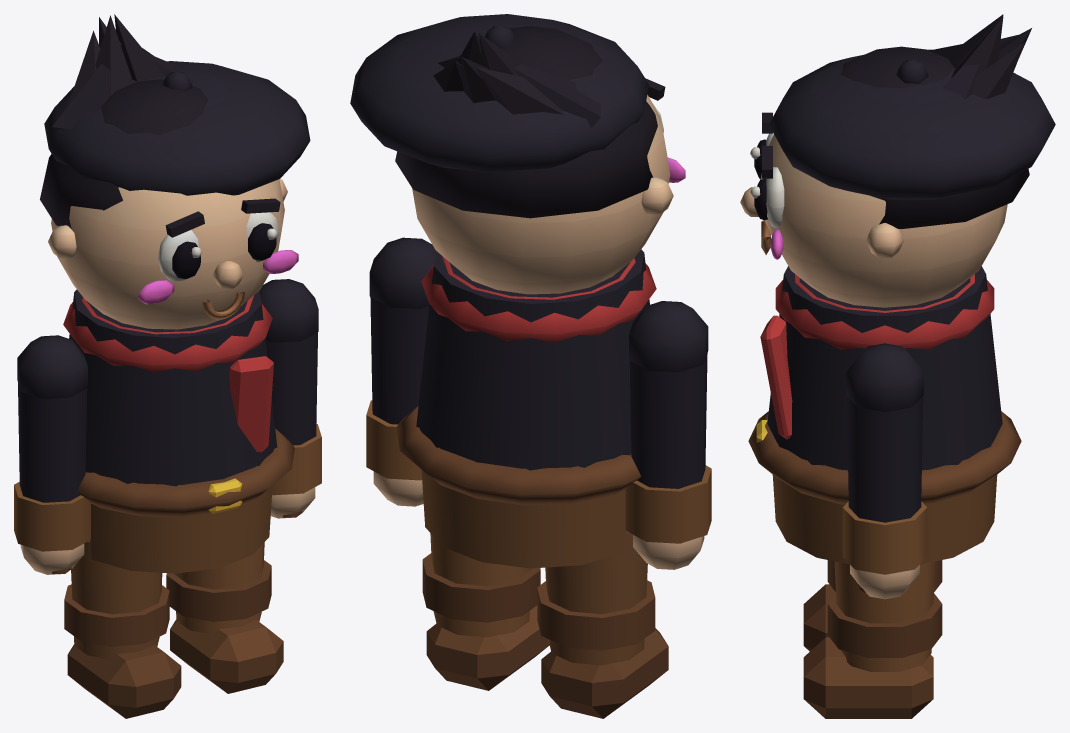
The model's file is hero_kip.glb.
The picture shows the model from 3 angles, left to right: view 1: azimuth 30°, elevation 25°; view 2: azimuth 150°, elevation 25°; view 3: azimuth 270°, elevation 25°; orthographic projection. The views are drawn at different scales.
Visible parts, largest first — view 1: body_t0_palette, arml_t0_palette, legl_t0_palette, legr_t0_palette, armr_t0_palette; view 2: body_t0_palette, arml_t0_palette, legl_t0_palette, legr_t0_palette, armr_t0_palette; view 3: body_t0_palette, armr_t0_palette, legr_t0_palette, legl_t0_palette.
Boxes of the visible parts, box(x1,y1,x2,y2) form: body_t0_palette: box(40, 14, 310, 573); arml_t0_palette: box(14, 335, 90, 574); legl_t0_palette: box(64, 541, 181, 718); legr_t0_palette: box(166, 542, 283, 693); armr_t0_palette: box(259, 279, 321, 518); body_t0_palette: box(350, 14, 685, 568); arml_t0_palette: box(625, 301, 711, 569); legl_t0_palette: box(537, 531, 668, 718); legr_t0_palette: box(422, 533, 549, 690); armr_t0_palette: box(366, 237, 436, 506); body_t0_palette: box(740, 14, 1055, 564); armr_t0_palette: box(842, 343, 927, 599); legr_t0_palette: box(803, 561, 942, 718); legl_t0_palette: box(803, 560, 942, 651).
Size of the model in its own units: 0.27 by 0.5391 by 0.231.
